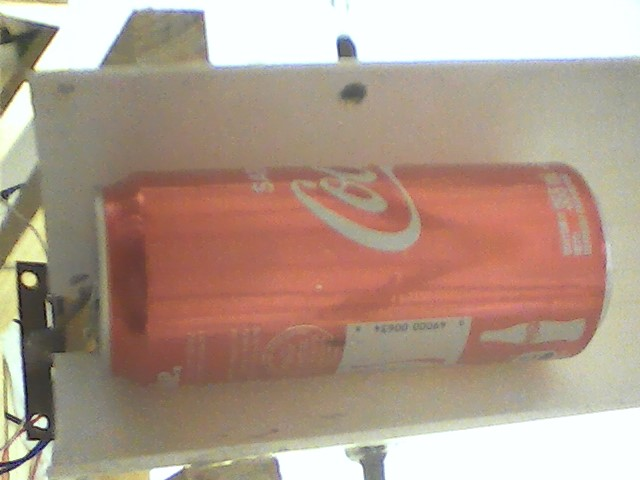lata: (90, 156, 617, 397)
